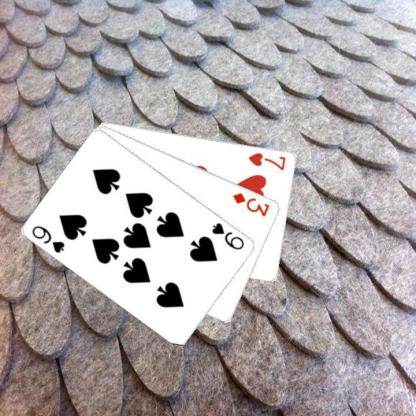3D: (230, 190, 271, 218)
7H: (246, 150, 287, 172)
9S: (209, 220, 246, 252), (30, 223, 66, 254)
